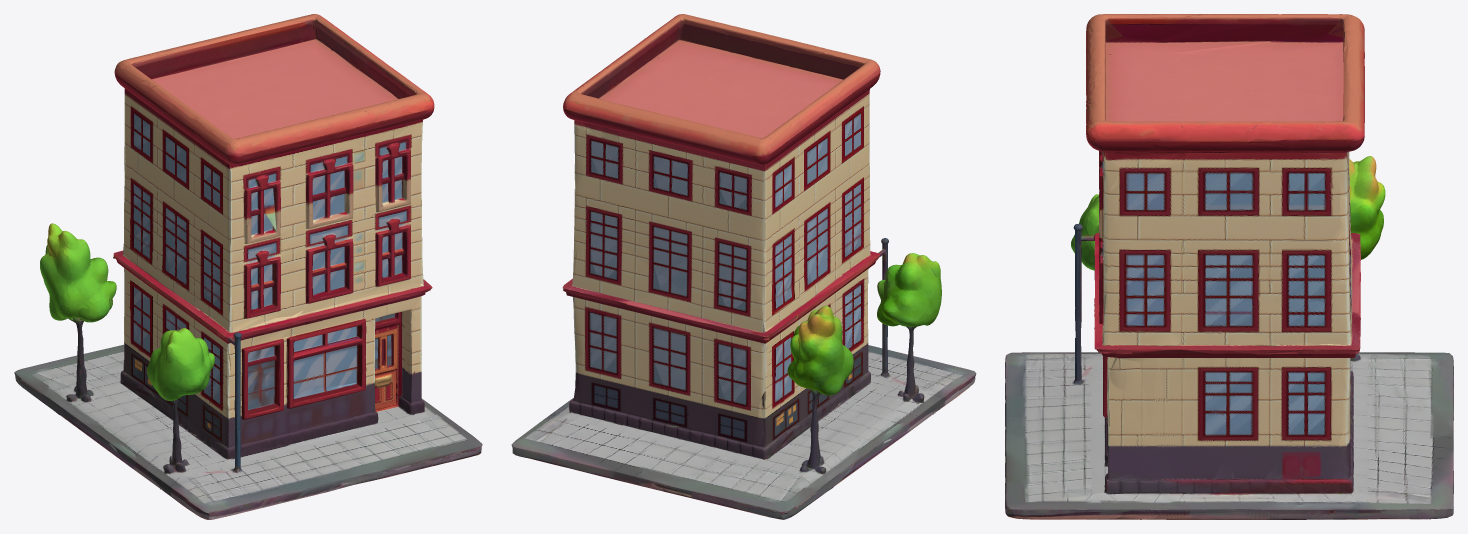
File: building.glb
3 views of the same model, side by side, from view 1: azimuth 30°, elevation 25°; view 2: azimuth 150°, elevation 25°; view 3: azimuth 270°, elevation 25° (orthographic). The views are drawn at different scales.
Bounding box in the file's own units: 1.63 × 1.81 × 1.9.
Materials: 1 (1 with a texture image).
